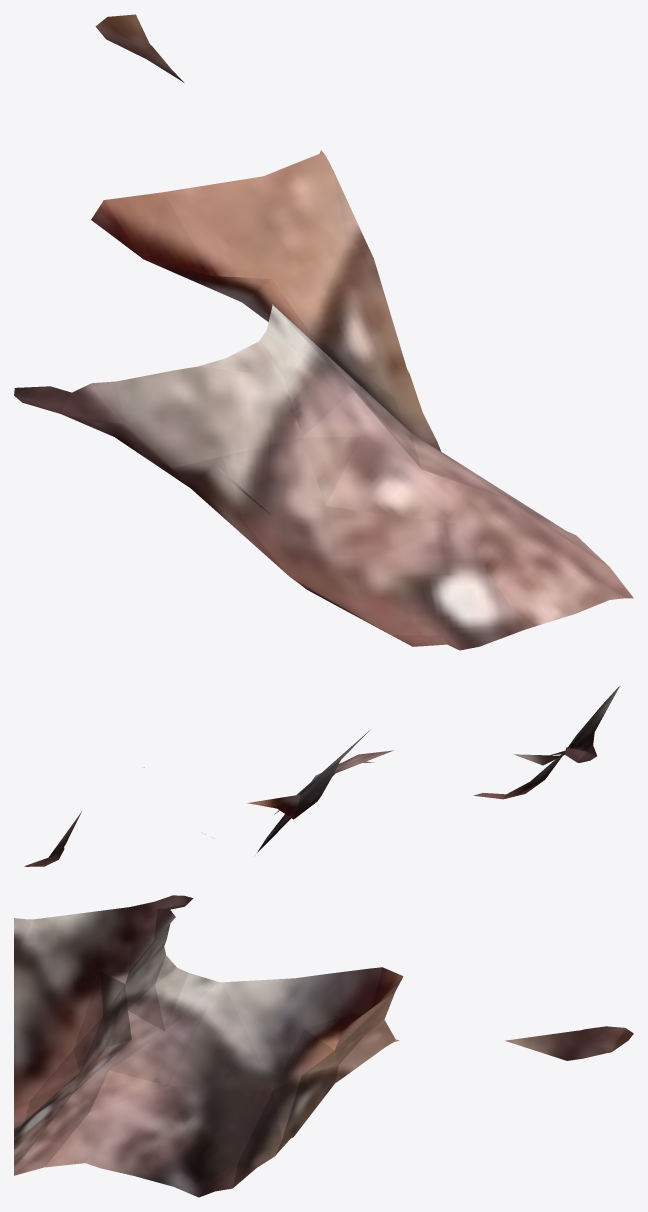
3 views of the same model, one above another, from view 1: azimuth 30°, elevation 25°; view 2: azimuth 150°, elevation 25°; view 3: azimuth 270°, elevation 25° (orthographic). The views are drawn at different scales.
Bounding box in the file's own units: 0.2625 × 0.1321 × 0.4733.
1 material, 1 textured.
